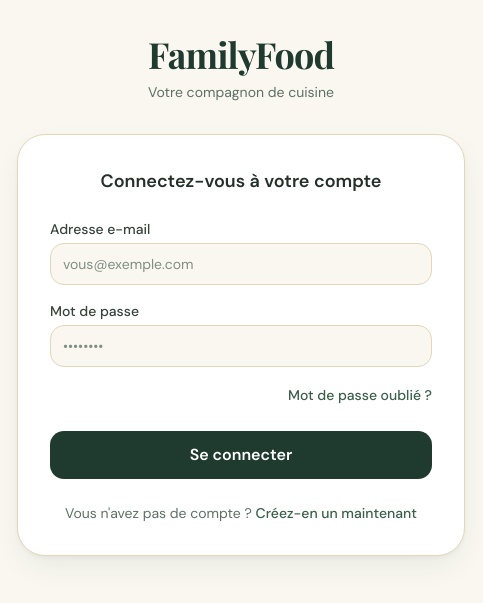
Auth System › Login Page › shows validation error for empty email
The width and height of the screenshot is (483, 603).
Check: the heading "Connectez-vous à votre compte" is shown, box top-left (100, 169), bottom-right (381, 193)
Click the button "Se connecter".
click(241, 455)  # box top-left (50, 431), bottom-right (432, 479)
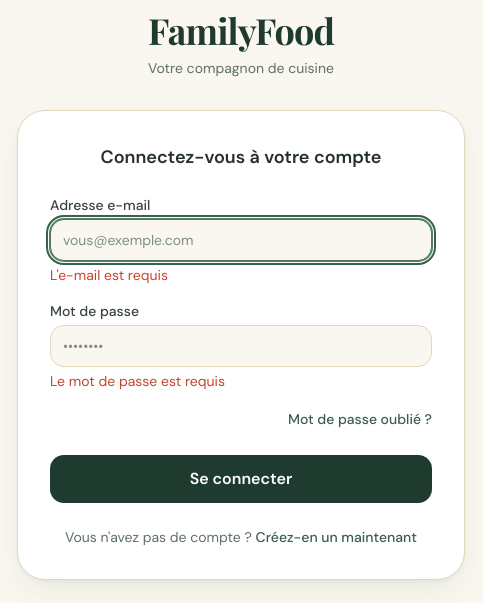
Check: the text "L'e-mail est requis" is shown, box top-left (50, 266), bottom-right (168, 284)
